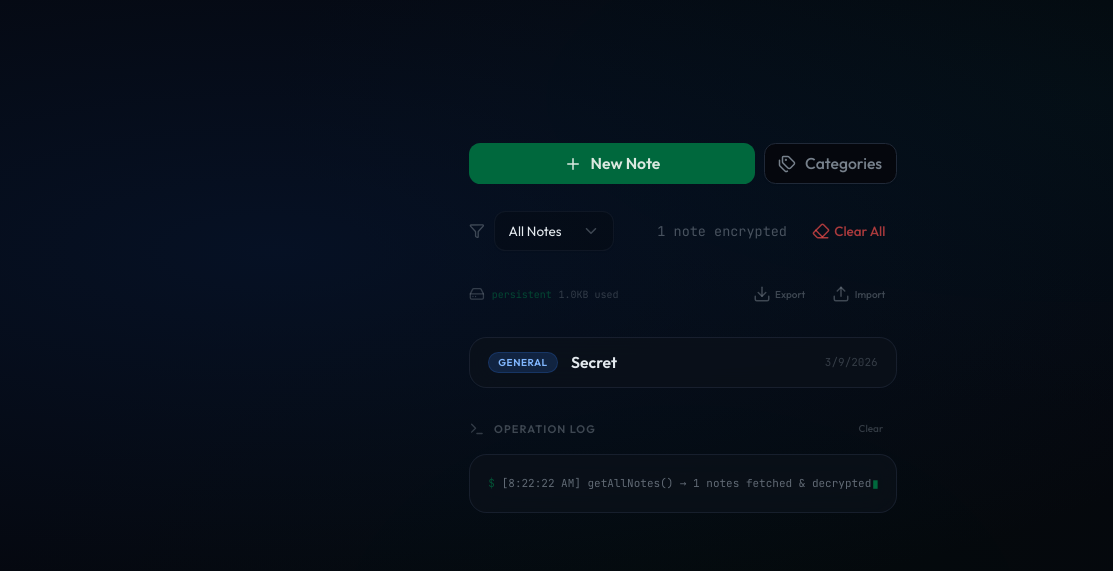
NotesApp › toggling raw view hides it on second click
# Click note to open detail view, then toggle raw
Step 1. Click the heading "Secret" → (594, 362), box [571, 352, 617, 372]
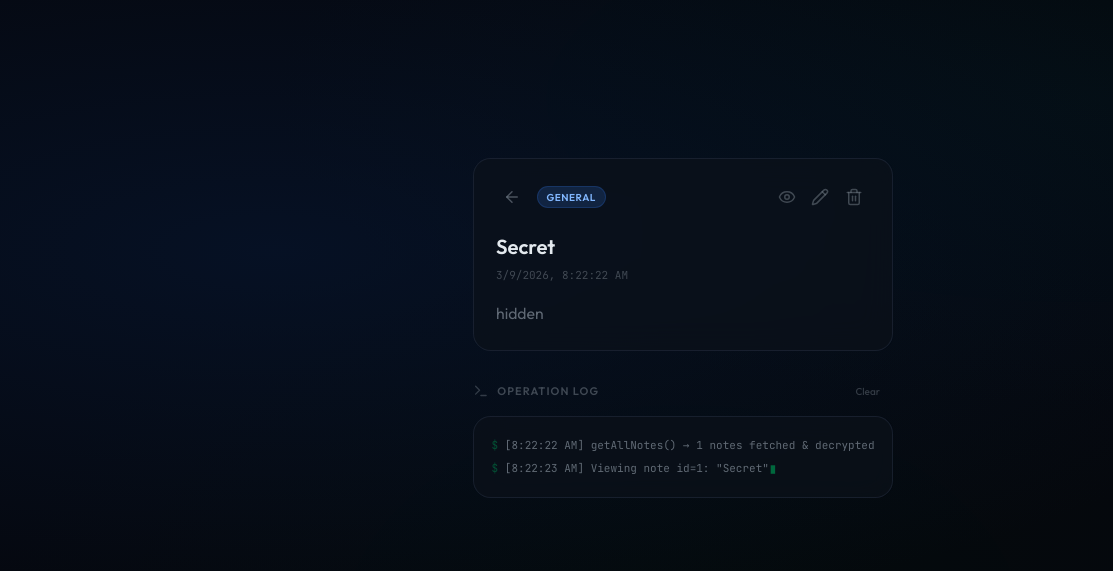
Result: the button titled "Show encrypted" is shown
Step 2. Click the button titled "Show encrypted" → (787, 197), box [771, 181, 802, 213]
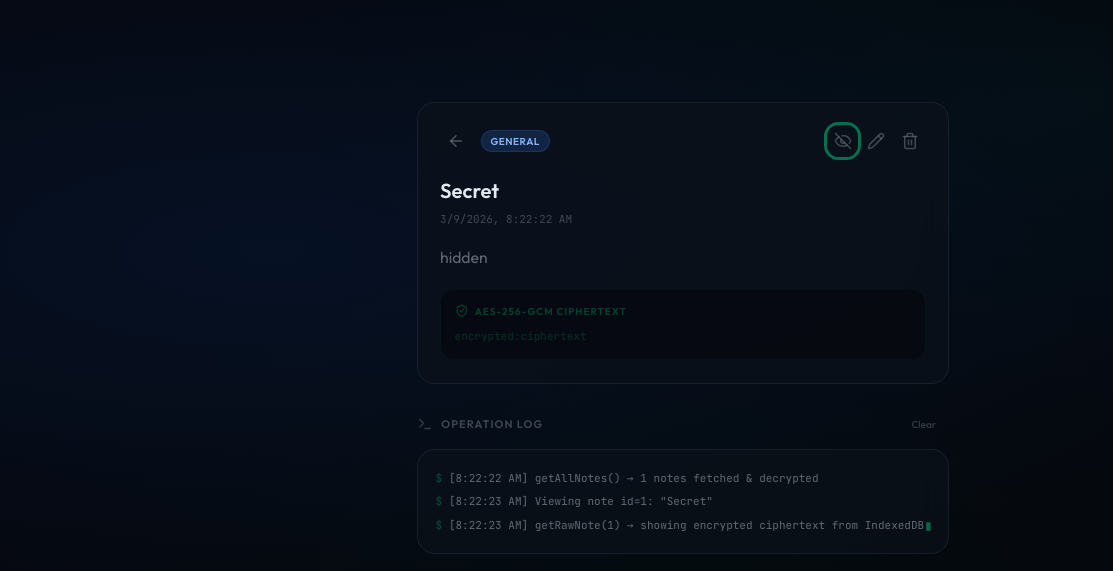
Result: the text "encrypted:ciphertext" is shown at [454, 329, 586, 343]
Step 3. Click the button titled "Hide encrypted" → (843, 141), box [827, 125, 858, 157]
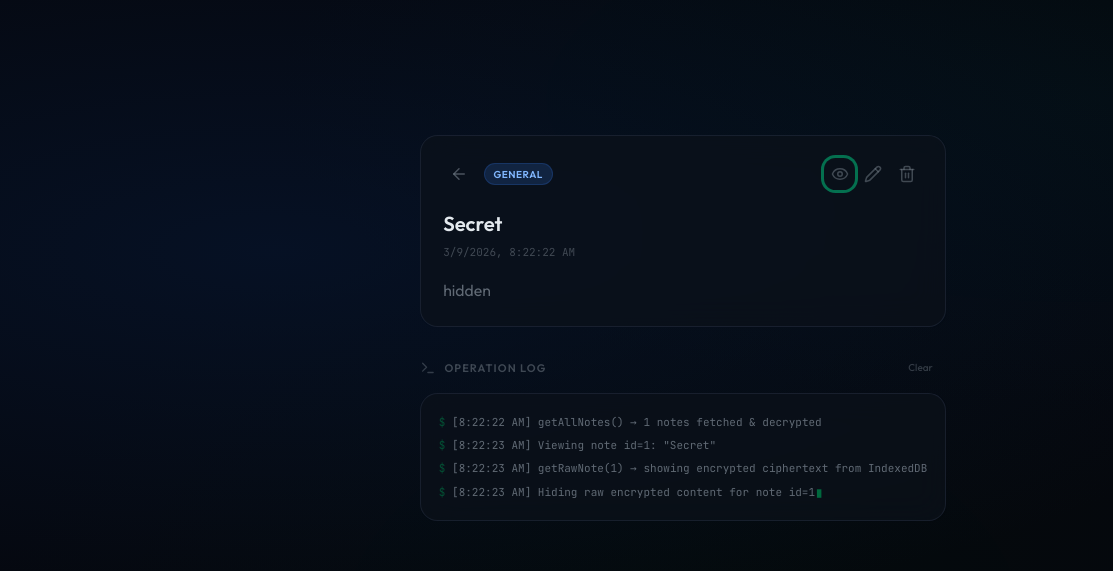
Result: the text "encrypted:ciphertext" is gone
